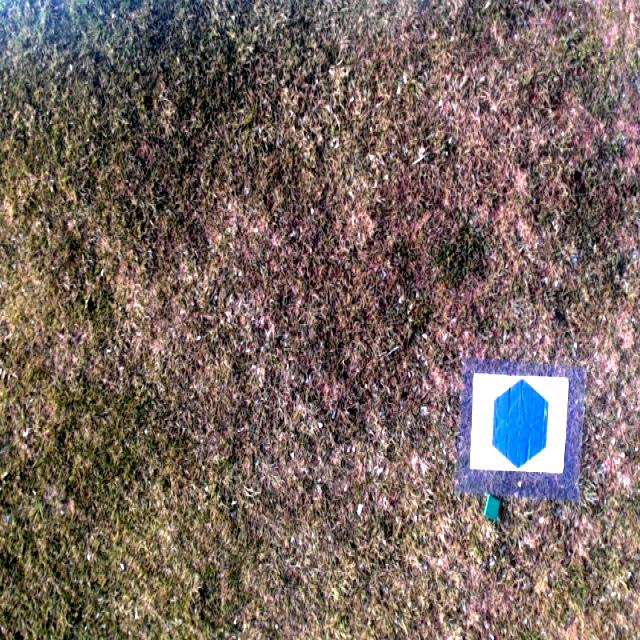blue_hexagon: (491, 378, 547, 468)
